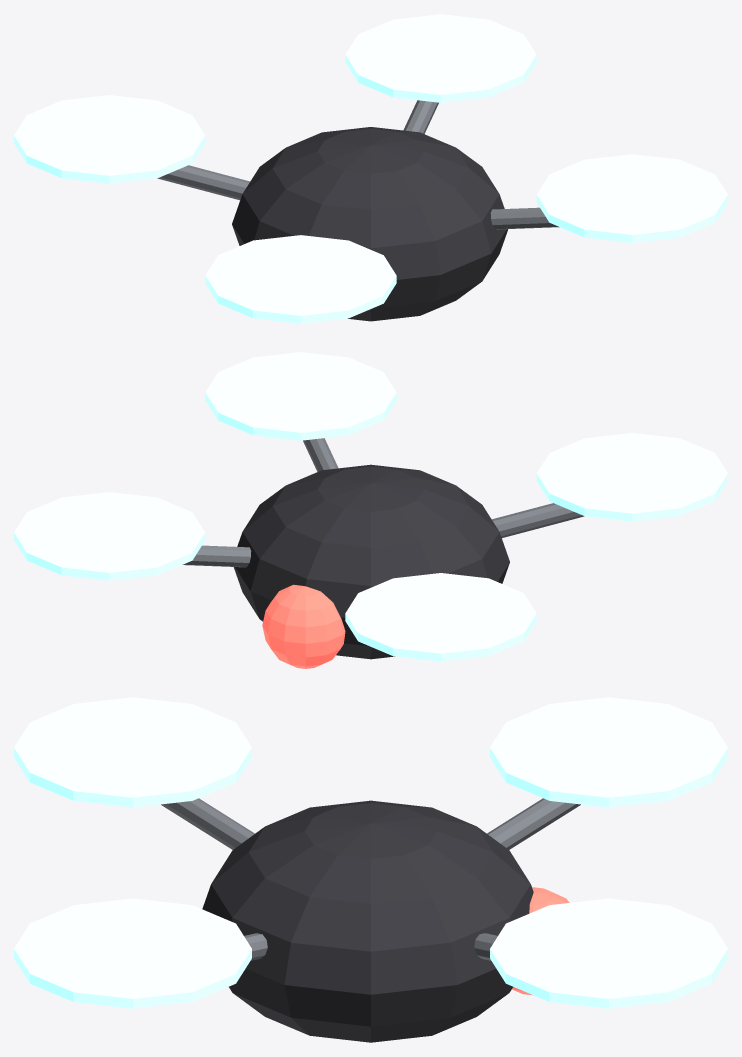
File: drone.glb
3 views of the same model, one above another, from view 1: azimuth 30°, elevation 25°; view 2: azimuth 150°, elevation 25°; view 3: azimuth 270°, elevation 25° (orthographic). The views are drawn at different scales.
Parts seen in each view (by area): view 1: Drone; view 2: Drone; view 3: Drone.
Boxes of the visible parts, x1=… form: Drone: x1=14, y1=14, x2=727, y2=323; Drone: x1=14, y1=352, x2=727, y2=668; Drone: x1=14, y1=697, x2=727, y2=1042.
Size of the model in its own units: 0.66 by 0.2 by 0.66.
